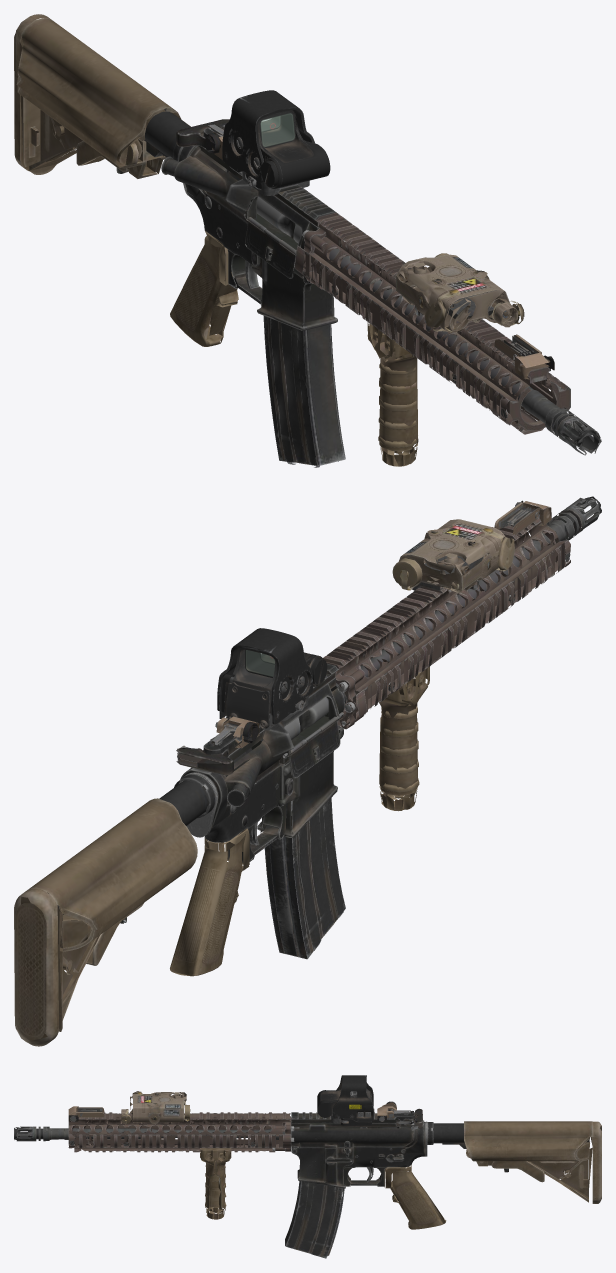
The picture shows the model from 3 angles, top to bottom: view 1: azimuth 30°, elevation 25°; view 2: azimuth 150°, elevation 25°; view 3: azimuth 270°, elevation 25°; orthographic projection. The views are drawn at different scales.
Parts seen in each view (by area): view 1: merged; view 2: merged; view 3: merged.
Part boxes in pixels (box(x1,y1,x2,y2)): merged: box(14, 14, 601, 467); merged: box(14, 496, 601, 1046); merged: box(14, 1075, 601, 1258).
Bounding box in the file's own units: 8.85 × 34.49 × 104.
Materials: 5 (5 with a texture image).
